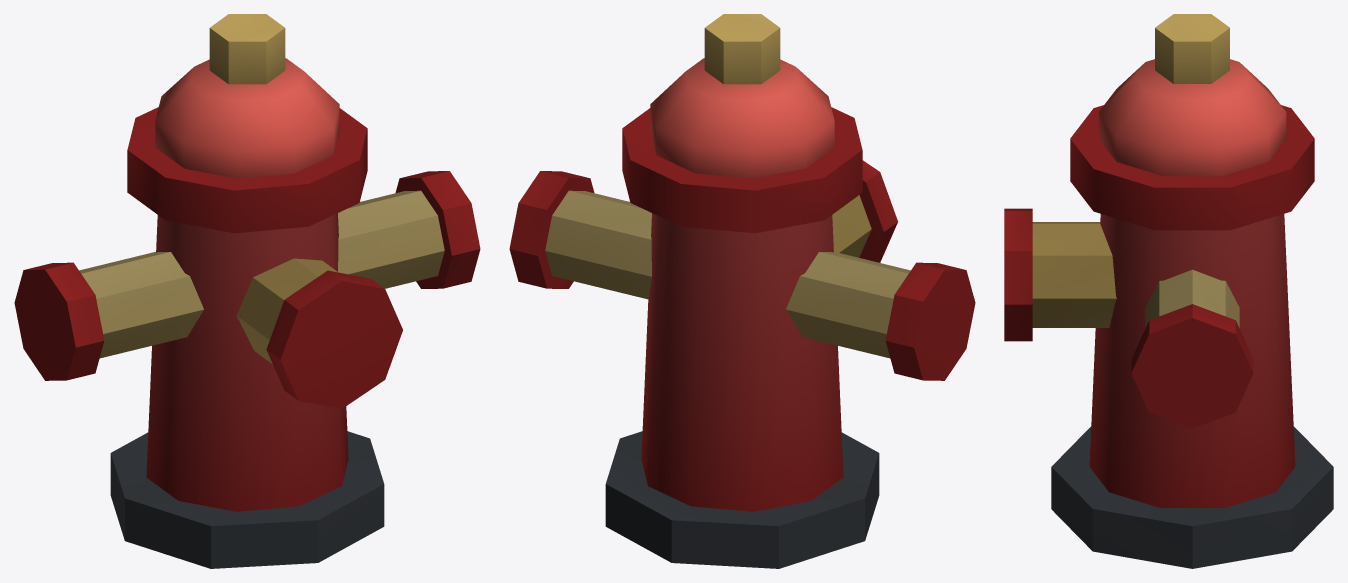
Rendered from hidrante.glb.
3 views of the same model, side by side, from view 1: azimuth 30°, elevation 25°; view 2: azimuth 150°, elevation 25°; view 3: azimuth 270°, elevation 25° (orthographic).
Visible parts, largest first — view 1: hidrante; view 2: hidrante; view 3: hidrante.
Boxes of the visible parts, <box> form: hidrante: <box>14,14,480,568</box>; hidrante: <box>509,14,975,568</box>; hidrante: <box>1004,14,1333,568</box>.
Size of the model in its own units: 0.99 by 1.13 by 0.7.
